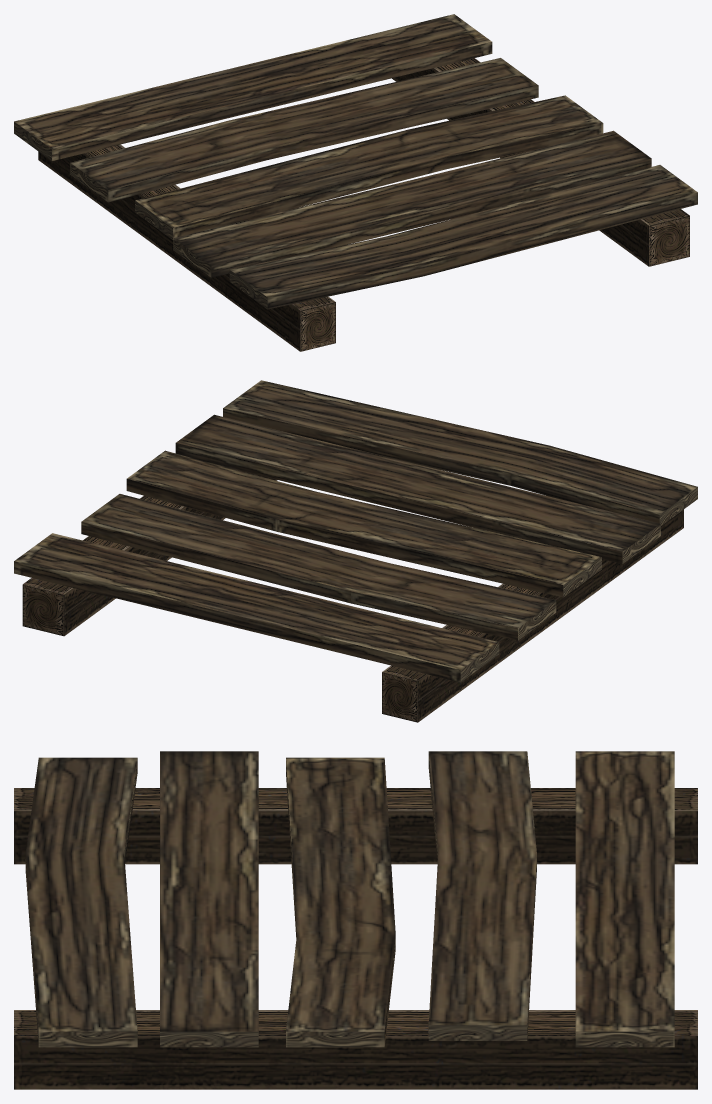
Rendered from Deck_04.fbx.
The picture shows the model from 3 angles, top to bottom: view 1: azimuth 30°, elevation 25°; view 2: azimuth 150°, elevation 25°; view 3: azimuth 270°, elevation 25°; orthographic projection. The views are drawn at different scales.
Parts seen in each view (by area): view 1: Deck_04; view 2: Deck_04; view 3: Deck_04.
Boxes of the visible parts, x1,y1,x2,y2 form: Deck_04: [14, 14, 697, 351]; Deck_04: [14, 380, 697, 722]; Deck_04: [14, 751, 697, 1089].
Size of the model in its own units: 3.88 by 0.4479 by 4.
